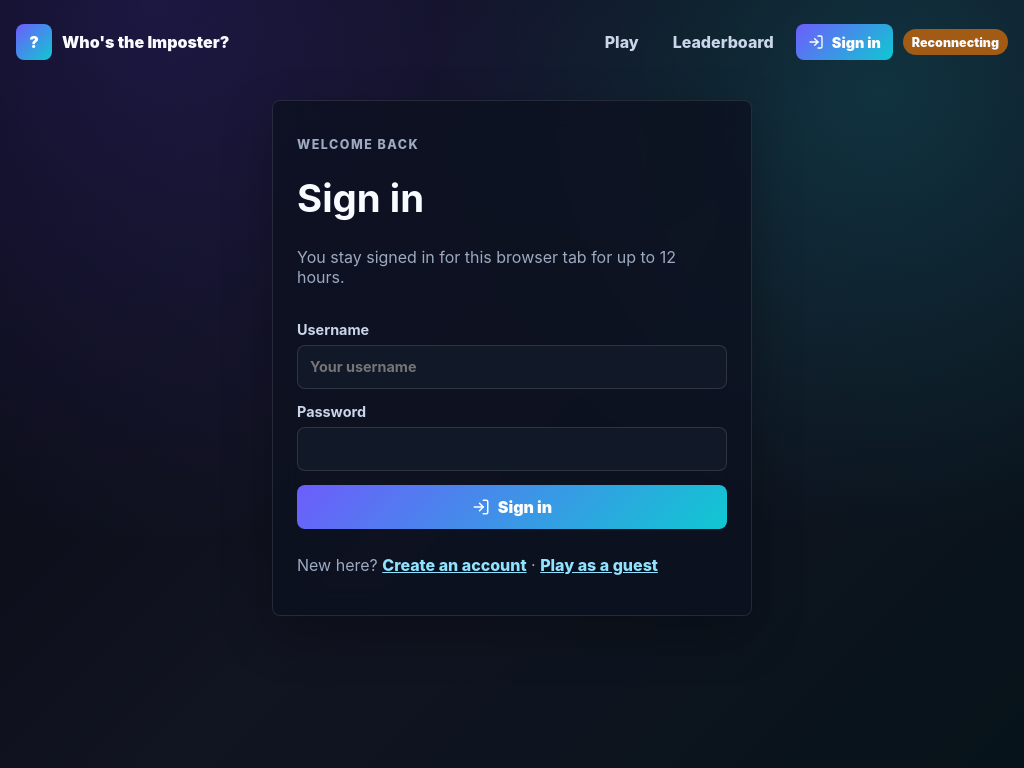
sign in › signs in, stores the session for this tab and reconnects the game socket
This screenshot has width=1024, height=768.
Step 1. Type "nova_7" into the field labelled "Username" → (512, 367), box [297, 345, 727, 389]
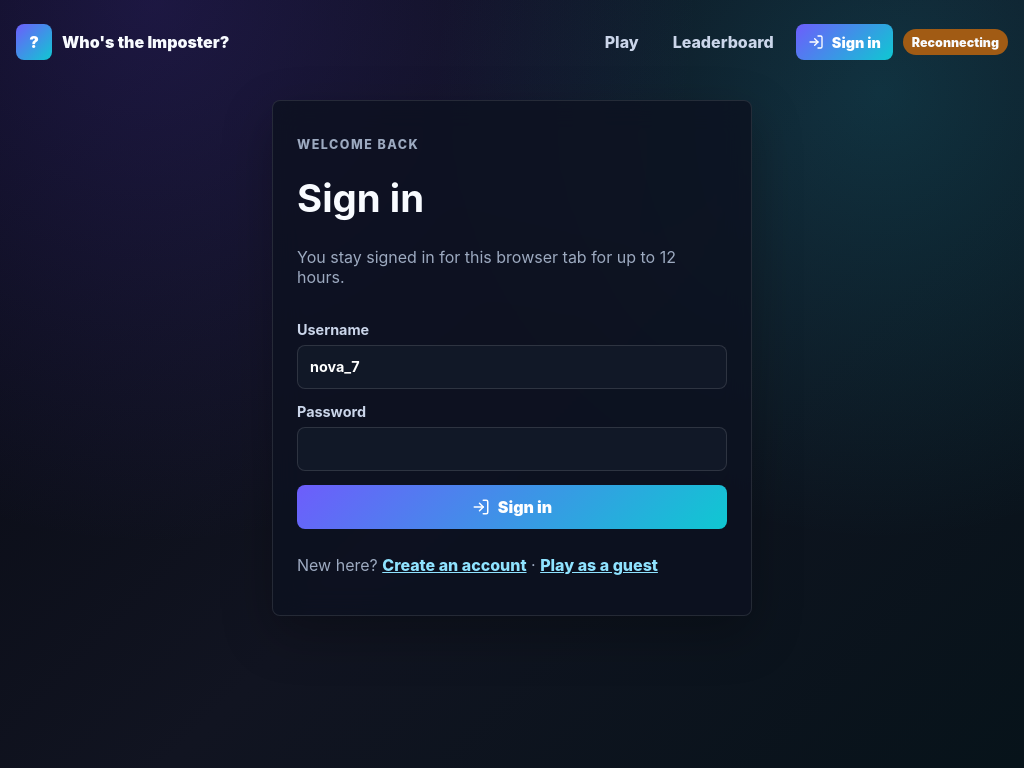
Step 2. Type "correct horse 42" into the password field labelled "Password" → (512, 449), box [297, 427, 727, 471]
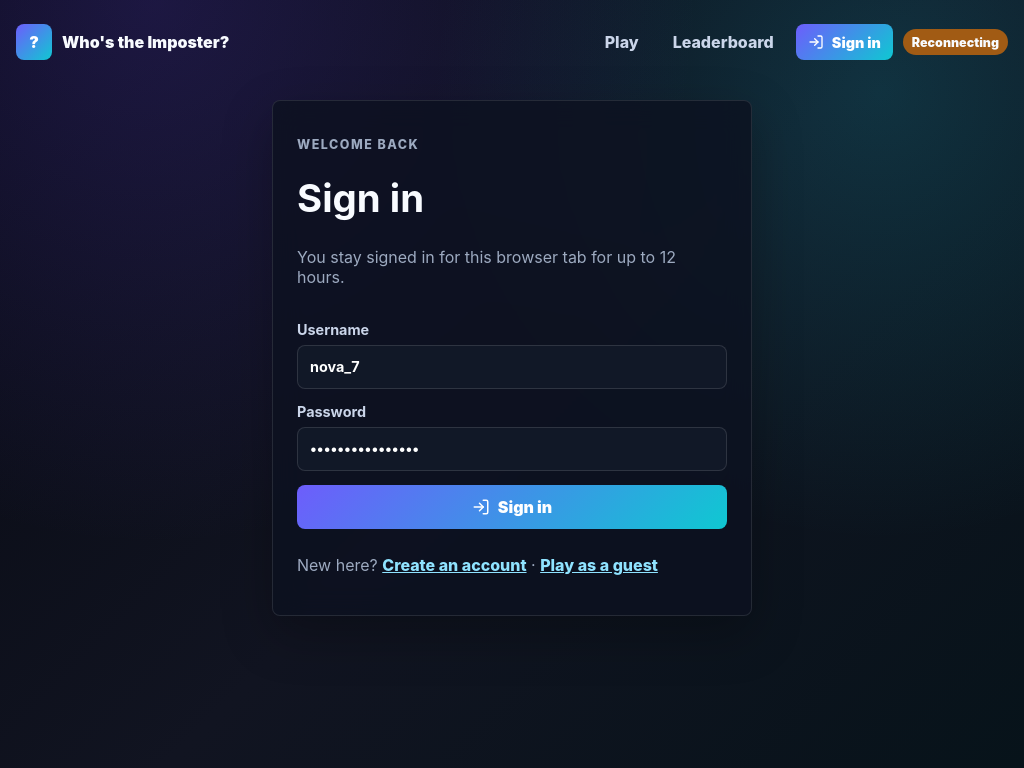
Step 3. Click the button "Sign in" → (512, 507), box [297, 485, 727, 529]
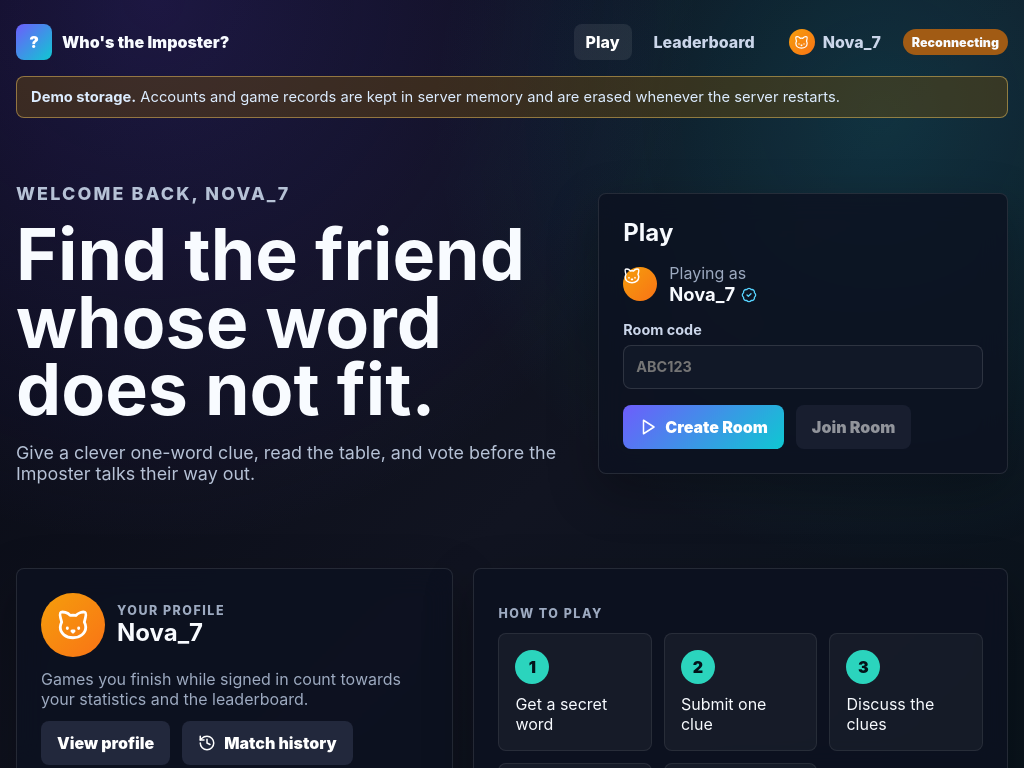
Expected: the text "Nova_7" is shown, [823, 32, 881, 52]
